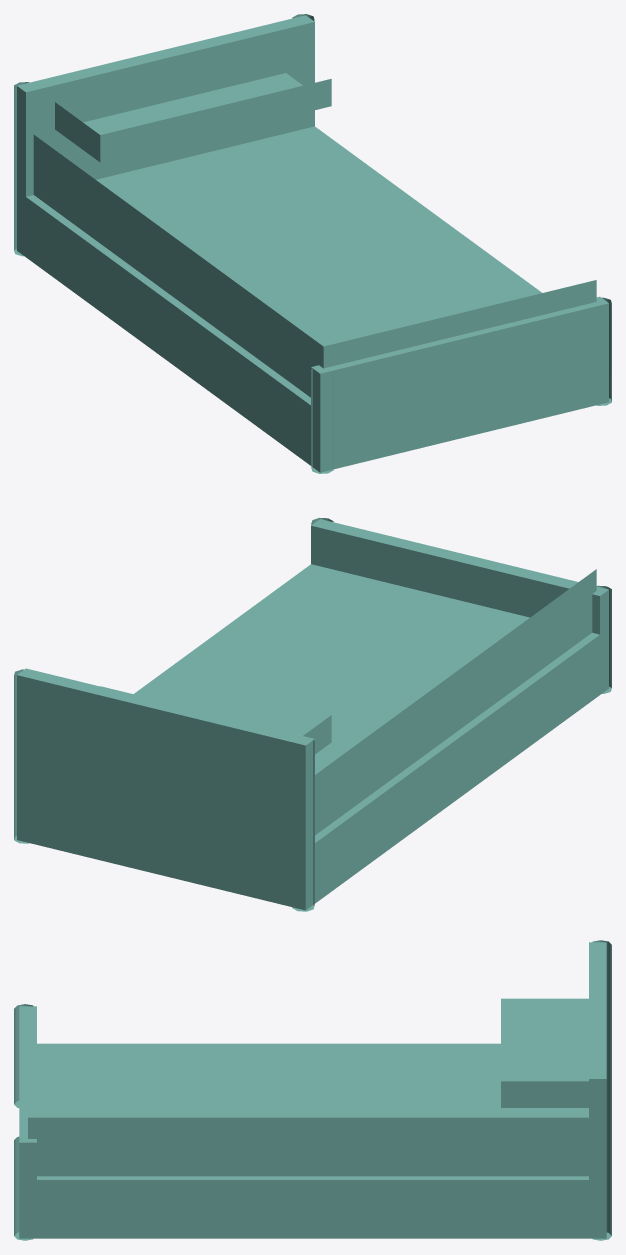
The model's file is single-bed.glb.
3 views of the same model, one above another, from view 1: azimuth 30°, elevation 25°; view 2: azimuth 150°, elevation 25°; view 3: azimuth 270°, elevation 25° (orthographic). The views are drawn at different scales.
Bounding box in the file's own units: 1.14 × 0.6 × 2.04.
